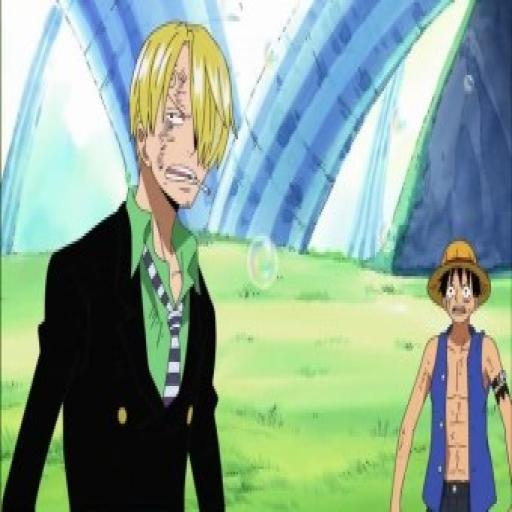Luffy: (418, 236, 488, 330)
sanji: (124, 22, 240, 218)
